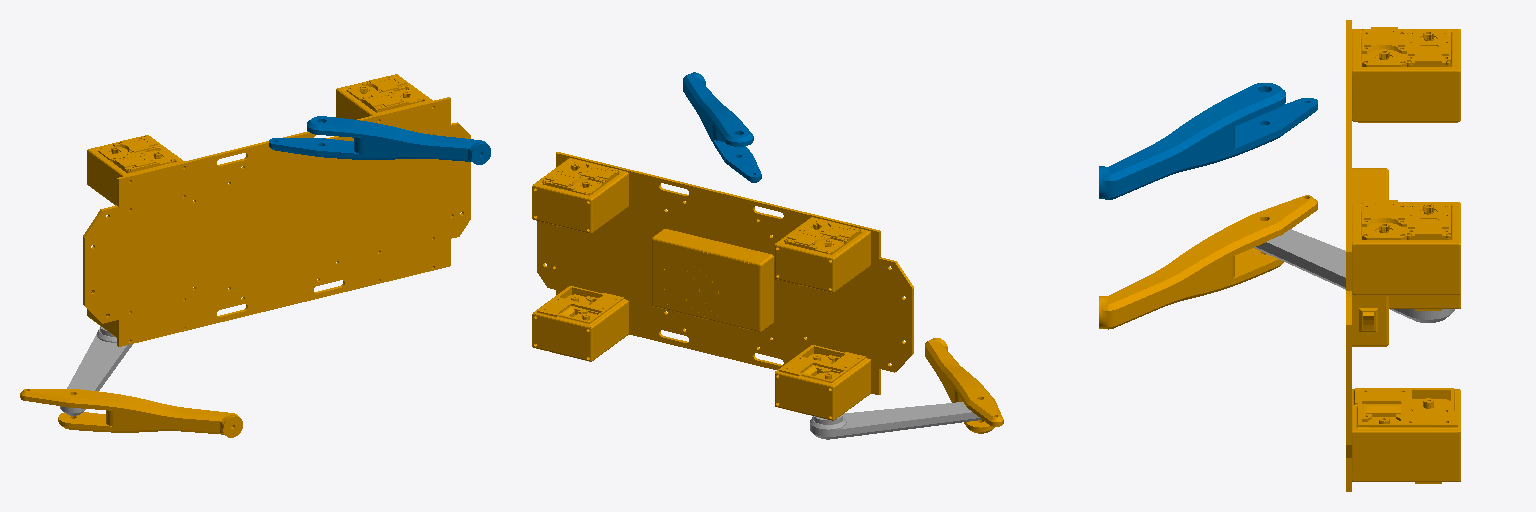
URDF robot description (urdf-assembly):
<?xml version='1.0' encoding='utf-8'?>
<robot name="urdf-assembly">
    <link name="base-combined-v1">
        <inertial>
            <origin xyz="0.0009645917098837942 0.023410344061044804 -0.0008708967307326614" rpy="0.0 0.0 0.0" />
            <mass value="5.722096819893475" />
            <inertia ixx="0.017000252379933457" iyy="0.07404147397135168" izz="0.06139296903176265" ixy="-5.183219021831338e-05" iyz="1.1645102071811968e-05" ixz="7.971285870514327e-06" />
        </inertial>
        <visual name="base-combined-v1_visual">
            <origin xyz="0.0 0.0 0.0" rpy="0.0 0.0 0.0" />
            <geometry>
                <mesh filename="meshes/base-combined-v1.stl" scale="0.001 0.001 0.001" />
            </geometry>
        </visual>
        <collision name="base-combined-v1_collision">
            <origin xyz="0.0 0.0 0.0" rpy="0.0 0.0 0.0" />
            <geometry>
                <mesh filename="meshes/base-combined-v1.stl" scale="0.001 0.001 0.001" />
            </geometry>
        </collision>
    </link>
    <link name="right_back_leg">
        <inertial>
            <origin xyz="-0.03909545084656962 0.03875533882886903 -0.011723574894433968" rpy="0.0 -0.0 0.0" />
            <mass value="0.28781330300213154" />
            <inertia ixx="0.0002760281340746765" iyy="0.0002754329059902333" izz="0.0005430899325322529" ixy="0.000256540916716438" iyz="1.091528749662318e-05" ixz="-1.092054837849242e-05" />
        </inertial>
        <visual name="right_back_leg_visual">
            <origin xyz="-0.00025978372142393624 -5.3763213715694034e-05 -0.00799999606140834" rpy="-3.141592653589791 1.0299176225354504e-15 -0.7853981633974483" />
            <geometry>
                <mesh filename="meshes/right_back_leg.stl" scale="0.001 0.001 0.001" />
            </geometry>
        </visual>
        <collision name="right_back_leg_collision">
            <origin xyz="-0.00025978372142393624 -5.3763213715694034e-05 -0.00799999606140834" rpy="-3.141592653589791 1.0299176225354504e-15 -0.7853981633974483" />
            <geometry>
                <mesh filename="meshes/right_back_leg.stl" scale="0.001 0.001 0.001" />
            </geometry>
        </collision>
    </link>
    <link name="right_back_knee">
        <inertial>
            <origin xyz="0.03833521622561843 -0.03525171186297051 0.004319345720593777" rpy="0.0 -0.0 7.778769097326427e-62" />
            <mass value="0.39133711148958433" />
            <inertia ixx="0.00033783850450704554" iyy="0.0004002868757080856" izz="0.0006936126492399393" ixy="0.00033389021410454127" iyz="1.3279503230121791e-05" ixz="-1.482223848121942e-05" />
        </inertial>
        <visual name="right_back_knee_visual">
            <origin xyz="4.724324966787208e-09 1.6594646012890735e-09 -0.0020000039385917566" rpy="2.73129116366224e-15 5.149588112677279e-16 -7.21644966006357e-16" />
            <geometry>
                <mesh filename="meshes/right_back_knee.stl" scale="0.001 0.001 0.001" />
            </geometry>
        </visual>
        <collision name="right_back_knee_collision">
            <origin xyz="4.724324966787208e-09 1.6594646012890735e-09 -0.0020000039385917566" rpy="2.73129116366224e-15 5.149588112677279e-16 -7.21644966006357e-16" />
            <geometry>
                <mesh filename="meshes/right_back_knee.stl" scale="0.001 0.001 0.001" />
            </geometry>
        </collision>
    </link>
    <link name="right_front_leg">
        <inertial>
            <origin xyz="-0.039095450846569645 0.038755338828869064 -0.011723574894433915" rpy="0.0 -0.0 0.0" />
            <mass value="0.28781330300213154" />
            <inertia ixx="0.00027602813407467735" iyy="0.0002754329059902337" izz="0.0005430899325322527" ixy="0.0002565409167164381" iyz="1.0915287496623289e-05" ixz="-1.0920548378492203e-05" />
        </inertial>
        <visual name="right_front_leg_visual">
            <origin xyz="-0.00025978372142397175 -5.376321371565851e-05 -0.007999996061408287" rpy="-3.141592653589791 1.0299176225354502e-15 -0.7853981633974483" />
            <geometry>
                <mesh filename="meshes/right_front_leg.stl" scale="0.001 0.001 0.001" />
            </geometry>
        </visual>
        <collision name="right_front_leg_collision">
            <origin xyz="-0.00025978372142397175 -5.376321371565851e-05 -0.007999996061408287" rpy="-3.141592653589791 1.0299176225354502e-15 -0.7853981633974483" />
            <geometry>
                <mesh filename="meshes/right_front_leg.stl" scale="0.001 0.001 0.001" />
            </geometry>
        </collision>
    </link>
    <link name="right_front_knee">
        <inertial>
            <origin xyz="0.03833521622561844 -0.03525171186297051 0.004319345720593599" rpy="0.0 -0.0 1.5557538194652854e-61" />
            <mass value="0.39133711148958433" />
            <inertia ixx="0.0003378385045070464" iyy="0.00040028687570808647" izz="0.000693612649239938" ixy="0.00033389021410453953" iyz="1.3279503230121358e-05" ixz="-1.4822238481218336e-05" />
        </inertial>
        <visual name="right_front_knee_visual">
            <origin xyz="4.7243249468031934e-09 1.6594645302347999e-09 -0.0020000039385919166" rpy="2.7312911636622406e-15 5.149588112677257e-16 -5.202070249652236e-30" />
            <geometry>
                <mesh filename="meshes/right_front_knee.stl" scale="0.001 0.001 0.001" />
            </geometry>
        </visual>
        <collision name="right_front_knee_collision">
            <origin xyz="4.7243249468031934e-09 1.6594645302347999e-09 -0.0020000039385919166" rpy="2.7312911636622406e-15 5.149588112677257e-16 -5.202070249652236e-30" />
            <geometry>
                <mesh filename="meshes/right_front_knee.stl" scale="0.001 0.001 0.001" />
            </geometry>
        </collision>
    </link>
    <link name="left_front_leg">
        <inertial>
            <origin xyz="-0.038755336293528286 0.03909545338191033 0.011723582771617239" rpy="0.0 -0.0 0.0" />
            <mass value="0.28781330300213154" />
            <inertia ixx="0.0002754329059902346" iyy="0.00027602813407467735" izz="0.0005430899325322537" ixy="0.00025654091671643874" iyz="-1.0920548378490096e-05" ixz="1.0915287496625735e-05" />
        </inertial>
        <visual name="left_front_leg_visual">
            <origin xyz="5.3765749056449155e-05 0.00025978625676465584 0.008000003938591611" rpy="-2.024120514811831e-15 -9.648822634787975e-16 -0.7853981633974485" />
            <geometry>
                <mesh filename="meshes/left_front_leg.stl" scale="0.001 0.001 0.001" />
            </geometry>
        </visual>
        <collision name="left_front_leg_collision">
            <origin xyz="5.3765749056449155e-05 0.00025978625676465584 0.008000003938591611" rpy="-2.024120514811831e-15 -9.648822634787975e-16 -0.7853981633974485" />
            <geometry>
                <mesh filename="meshes/left_front_leg.stl" scale="0.001 0.001 0.001" />
            </geometry>
        </collision>
    </link>
    <link name="left_front_knee">
        <inertial>
            <origin xyz="0.03833521569736632 -0.03525171133454946 -0.0043193545731221765" rpy="0.0 -0.0 7.778769097326427e-62" />
            <mass value="0.39133711147367384" />
            <inertia ixx="0.0003378384993895948" iyy="0.0004002868681923363" izz="0.0006936126492241282" ixy="0.00033389021409298584" iyz="-1.3279489778769346e-05" ixz="1.4822223852858831e-05" />
        </inertial>
        <visual name="left_front_knee_visual">
            <origin xyz="4.19480565172492e-09 2.1889838830446706e-09 0.008999996061408578" rpy="-3.141592653589758 3.742783307635113e-14 -5.55111512312632e-17" />
            <geometry>
                <mesh filename="meshes/left_front_knee.stl" scale="0.001 0.001 0.001" />
            </geometry>
        </visual>
        <collision name="left_front_knee_collision">
            <origin xyz="4.19480565172492e-09 2.1889838830446706e-09 0.008999996061408578" rpy="-3.141592653589758 3.742783307635113e-14 -5.55111512312632e-17" />
            <geometry>
                <mesh filename="meshes/left_front_knee.stl" scale="0.001 0.001 0.001" />
            </geometry>
        </collision>
    </link>
    <link name="left_back_leg">
        <inertial>
            <origin xyz="-0.03875533629352823 0.039095453381910346 0.01172358277161715" rpy="0.0 -0.0 0.0" />
            <mass value="0.28781330300213154" />
            <inertia ixx="0.0002754329059902372" iyy="0.0002760281340746795" izz="0.0005430899325322581" ixy="0.0002565409167164405" iyz="-1.0920548378490746e-05" ixz="1.0915287496625085e-05" />
        </inertial>
        <visual name="left_back_leg_visual">
            <origin xyz="5.3765749056449155e-05 0.00025978625676465584 0.008000003938591505" rpy="-2.6902543295869894e-15 -9.648822634787987e-16 -0.7853981633974491" />
            <geometry>
                <mesh filename="meshes/left_back_leg.stl" scale="0.001 0.001 0.001" />
            </geometry>
        </visual>
        <collision name="left_back_leg_collision">
            <origin xyz="5.3765749056449155e-05 0.00025978625676465584 0.008000003938591505" rpy="-2.6902543295869894e-15 -9.648822634787987e-16 -0.7853981633974491" />
            <geometry>
                <mesh filename="meshes/left_back_leg.stl" scale="0.001 0.001 0.001" />
            </geometry>
        </collision>
    </link>
    <link name="left_back_knee">
        <inertial>
            <origin xyz="0.03833521569736668 -0.03525171133454954 -0.004319354573119334" rpy="0.0 -0.0 -7.006492321624085e-46" />
            <mass value="0.39133711147367384" />
            <inertia ixx="0.0003378384993895958" iyy="0.00040028686819234085" izz="0.0006936126492241275" ixy="0.0003338902140929881" iyz="-1.3279489778744633e-05" ixz="1.482222385283325e-05" />
        </inertial>
        <visual name="left_back_knee_visual">
            <origin xyz="4.194805498514143e-09 2.188984407069938e-09 0.008999996061408631" rpy="3.141592653589783 6.021737866577303e-15 7.771561172376066e-16" />
            <geometry>
                <mesh filename="meshes/left_back_knee.stl" scale="0.001 0.001 0.001" />
            </geometry>
        </visual>
        <collision name="left_back_knee_collision">
            <origin xyz="4.194805498514143e-09 2.188984407069938e-09 0.008999996061408631" rpy="3.141592653589783 6.021737866577303e-15 7.771561172376066e-16" />
            <geometry>
                <mesh filename="meshes/left_back_knee.stl" scale="0.001 0.001 0.001" />
            </geometry>
        </collision>
    </link>
    <joint name="base-combined-v1_Revolute-5" type="continuous">
        <origin xyz="-0.12649499 0.04622836 0.07744255" rpy="-3.1415926535897927 -0.0 0.0" />
        <parent link="base-combined-v1" />
        <child link="right_back_leg" />
        <axis xyz="0.0 7.598088824778261e-16 1.0" />
    </joint>
    <joint name="right_back_leg_Revolute-6" type="continuous">
        <origin xyz="-0.09218367000000004 0.09187012 -0.010300000000000073" rpy="3.1415926535897927 -1.9721522630525654e-31 -4.738704295261863e-30" />
        <parent link="right_back_leg" />
        <child link="right_back_knee" />
        <axis xyz="-1.9721522630525295e-31 -3.944304526105059e-31 1.0" />
    </joint>
    <joint name="base-combined-v1_Revolute-7" type="continuous">
        <origin xyz="0.10350501 0.04622836 0.07744255" rpy="-3.1415926535897927 -0.0 0.0" />
        <parent link="base-combined-v1" />
        <child link="right_front_leg" />
        <axis xyz="0.0 7.598088824778261e-16 1.0" />
    </joint>
    <joint name="right_front_leg_Revolute-8" type="continuous">
        <origin xyz="-0.09218367000000004 0.09187012 -0.010300000000000073" rpy="3.1415926535897927 3.944304526105023e-31 -4.7387042952618626e-30" />
        <parent link="right_front_leg" />
        <child link="right_front_knee" />
        <axis xyz="3.944304526105059e-31 3.944304526105059e-31 1.0" />
    </joint>
    <joint name="base-combined-v1_Revolute-9" type="continuous">
        <origin xyz="0.10350501 0.04622836 -0.07920745" rpy="3.1415926535897922 -0.0 0.0" />
        <parent link="base-combined-v1" />
        <child link="left_front_leg" />
        <axis xyz="0.0 -8.500145032286205e-16 1.0" />
    </joint>
    <joint name="left_front_leg_Revolute-10" type="continuous">
        <origin xyz="-0.09187012000000003 0.09218367000000001 0.010300000000000064" rpy="-3.1415926535897922 1.9721522630524905e-31 4.588940654479647e-30" />
        <parent link="left_front_leg" />
        <child link="left_front_knee" />
        <axis xyz="-1.9721522630525295e-31 -3.944304526105059e-31 -1.0" />
    </joint>
    <joint name="base-combined-v1_Revolute-11" type="continuous">
        <origin xyz="-0.12649499 0.04622836 -0.07920745" rpy="3.1415926535897922 -0.0 0.0" />
        <parent link="base-combined-v1" />
        <child link="left_back_leg" />
        <axis xyz="0.0 -8.500145032286205e-16 1.0" />
    </joint>
    <joint name="left_back_leg_Revolute-12" type="continuous">
        <origin xyz="-0.09187012000000003 0.09218367000000001 0.010300000000000064" rpy="-3.1415926535897922 -3.900666110763166e-45 4.58894065447968e-30" />
        <parent link="left_back_leg" />
        <child link="left_back_knee" />
        <axis xyz="0.0 -0.0 -1.0000000000000002" />
    </joint>
</robot>

--- What the picture shows (computed from the rendered views, not written in the file) ---
3 views of the same robot in one strip: view 1: azimuth 30°, elevation 25°; view 2: azimuth 150°, elevation 25°; view 3: azimuth 270°, elevation 25° (orthographic).
Model urdf-assembly with 9 links and 8 joints (8 continuous), rooted at base-combined-v1, posed every joint at zero.
Visible links, largest first — view 1: base-combined-v1, right_front_knee, left_back_knee, left_back_leg; view 2: base-combined-v1, left_back_leg, right_front_knee, left_back_knee; view 3: base-combined-v1, right_front_knee, left_back_knee, left_back_leg.
Boxes of the visible links, x1,y1,x2,y2 form: base-combined-v1: [83, 74, 470, 346]; right_front_knee: [269, 116, 490, 164]; left_back_knee: [20, 389, 242, 437]; left_back_leg: [60, 326, 132, 415]; base-combined-v1: [532, 152, 913, 420]; left_back_leg: [810, 402, 981, 439]; right_front_knee: [683, 72, 761, 182]; left_back_knee: [925, 338, 1003, 433]; base-combined-v1: [1346, 20, 1460, 491]; right_front_knee: [1099, 83, 1317, 199]; left_back_knee: [1099, 195, 1317, 329]; left_back_leg: [1254, 229, 1454, 322].
Bounding box of the posed robot: 0.4281 × 0.2038 × 0.2153 m (x, y, z).
Meshes: 9 distinct files referenced, 4 mesh visuals loaded (4 binary STL); not drawn: 5 (reference not matched to a file when rendering).